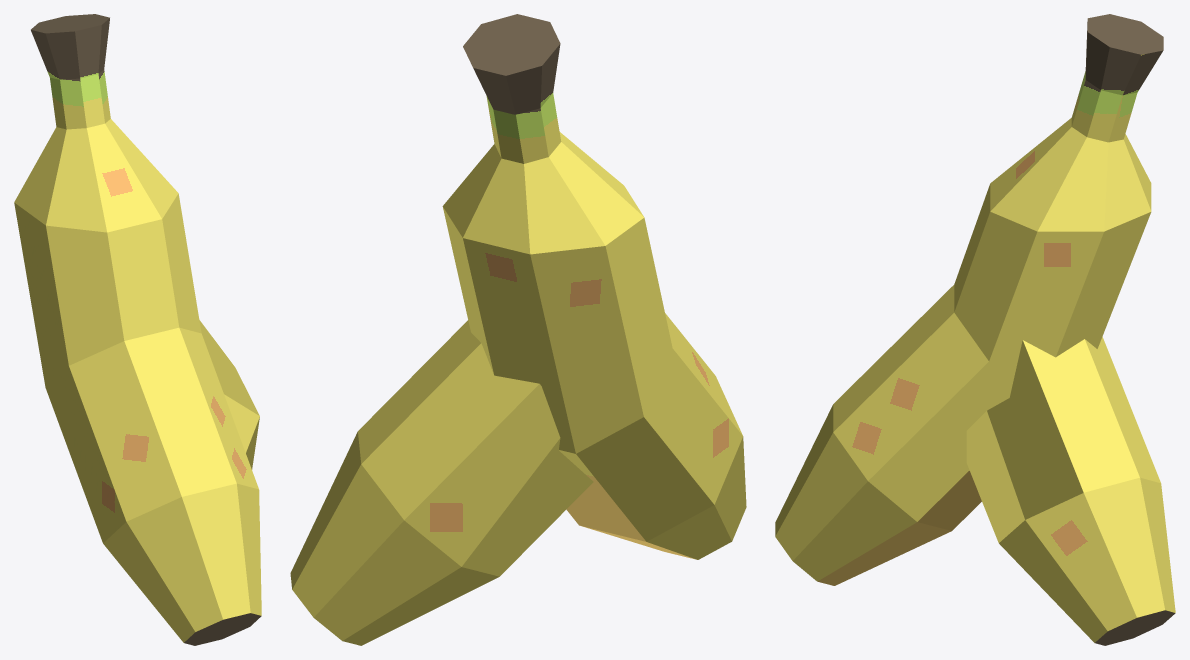
Rendered from Banana Model.fbx.
3 views of the same model, side by side, from view 1: azimuth 30°, elevation 25°; view 2: azimuth 150°, elevation 25°; view 3: azimuth 270°, elevation 25° (orthographic). The views are drawn at different scales.
Visible parts, largest first — view 1: cylinder; view 2: cylinder; view 3: cylinder.
Part boxes in pixels (x1,y1,x2,y2): cylinder: (14,14,261,645); cylinder: (290,14,746,645); cylinder: (775,14,1175,645).
Size of the model in its own units: 34.07 by 71.06 by 46.58.
Materials: 1 (1 with a texture image).
